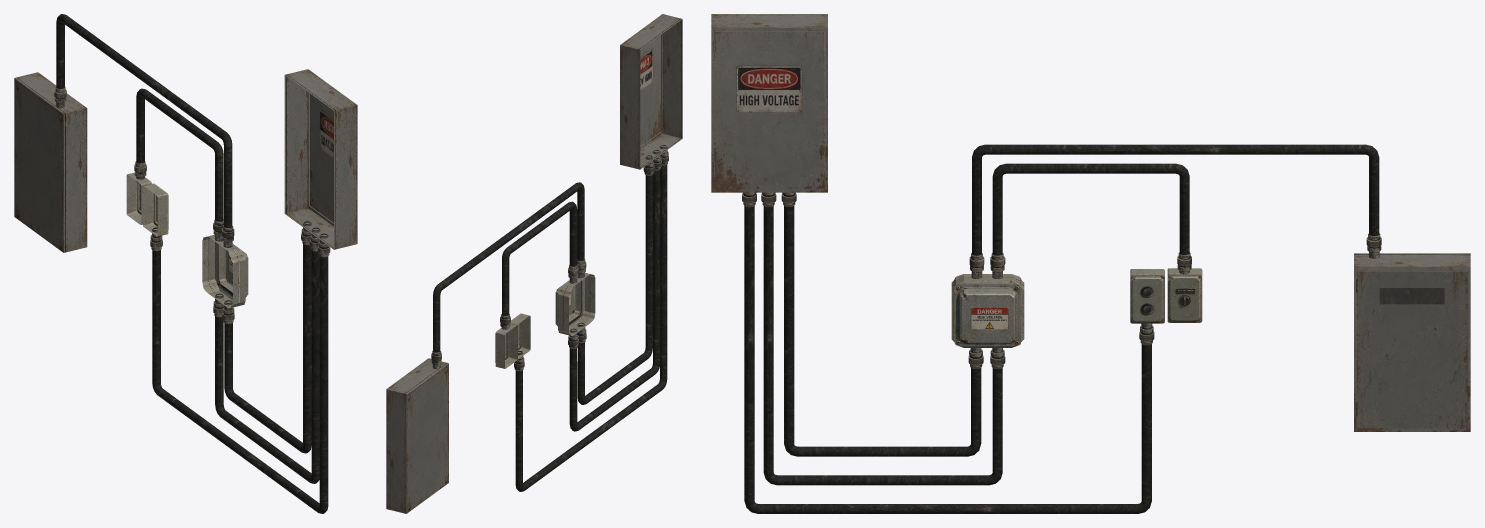
File: electrical_wall.glb
3 renders of one model, left to right at view 1: azimuth 30°, elevation 25°; view 2: azimuth 150°, elevation 25°; view 3: azimuth 270°, elevation 25°, orthographic. The views are drawn at different scales.
Parts seen in each view (by area): view 1: OneMeshBoxHGVoltage.001, OneMeshBoxGlassFrame.001, SmallBoxHGVoltage, 1m.003, 1m.002, PushbuttonBox, Curved cable.005, Curved cable.003, Curved cable.010, Curved cable.002, Curved cable.007, Curved cable.009 (+9 smaller); view 2: OneMeshBoxHGVoltage.001, OneMeshBoxGlassFrame.001, SmallBoxHGVoltage, 1m.002, 1m.003, Curved cable.003, RotateKnobBox, Curved cable.005, Curved cable, Curved cable.001, Curved cable.002, Curved cable.004 (+9 smaller); view 3: OneMeshBoxHGVoltage.001, OneMeshBoxGlassFrame.001, SmallBoxHGVoltage, 1m.001, 1M, 1m.002, 1m.003, Curved cable.003, Curved cable.002, Curved cable, Curved cable.001, Curved cable.005 (+8 smaller).
Part boxes in pixels (bbox=[...]): OneMeshBoxHGVoltage.001: bbox=[284, 69, 357, 249]; OneMeshBoxGlassFrame.001: bbox=[14, 72, 87, 252]; SmallBoxHGVoltage: bbox=[202, 234, 248, 308]; 1m.003: bbox=[319, 256, 328, 418]; 1m.002: bbox=[311, 250, 319, 412]; PushbuttonBox: bbox=[143, 183, 168, 236]; Curved cable.005: bbox=[152, 310, 197, 420]; Curved cable.003: bbox=[215, 332, 259, 442]; Curved cable.010: bbox=[281, 440, 328, 513]; Curved cable.002: bbox=[176, 115, 223, 221]; Curved cable.007: bbox=[185, 105, 232, 211]; Curved cable.009: bbox=[264, 380, 311, 453]; OneMeshBoxHGVoltage.001: bbox=[620, 14, 682, 169]; OneMeshBoxGlassFrame.001: bbox=[386, 358, 448, 513]; SmallBoxHGVoltage: bbox=[555, 273, 595, 335]; 1m.002: bbox=[653, 170, 660, 308]; 1m.003: bbox=[660, 164, 667, 303]; Curved cable.003: bbox=[569, 361, 610, 431]; RotateKnobBox: bbox=[495, 324, 517, 368]; Curved cable.005: bbox=[515, 422, 556, 491]; Curved cable: bbox=[433, 261, 473, 352]; Curved cable.001: bbox=[502, 225, 542, 315]; Curved cable.002: bbox=[538, 201, 577, 266]; Curved cable.004: bbox=[577, 342, 618, 404]; OneMeshBoxHGVoltage.001: bbox=[711, 14, 827, 192]; OneMeshBoxGlassFrame.001: bbox=[1354, 253, 1470, 431]; SmallBoxHGVoltage: bbox=[951, 274, 1024, 347]; 1m.001: bbox=[1070, 144, 1280, 154]; 1M: bbox=[843, 504, 1053, 513]; 1m.002: bbox=[763, 206, 773, 397]; 1m.003: bbox=[744, 206, 754, 397]; Curved cable.003: bbox=[904, 387, 1002, 485]; Curved cable.002: bbox=[992, 163, 1091, 255]; Curved cable: bbox=[1280, 144, 1379, 235]; Curved cable.001: bbox=[1091, 163, 1189, 254]; Curved cable.005: bbox=[1053, 415, 1151, 513].
Bounding box in the file's own units: 0.1316 × 2.08 × 2.89.
Materials: 5 (5 with a texture image).
